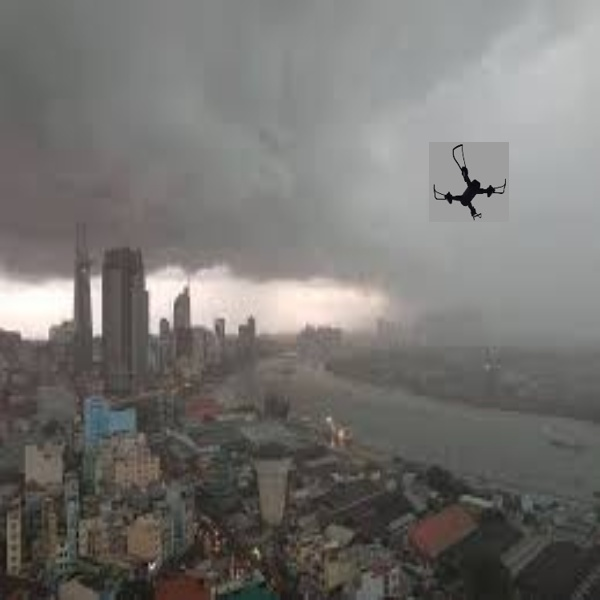drone: (429, 138, 511, 227)
